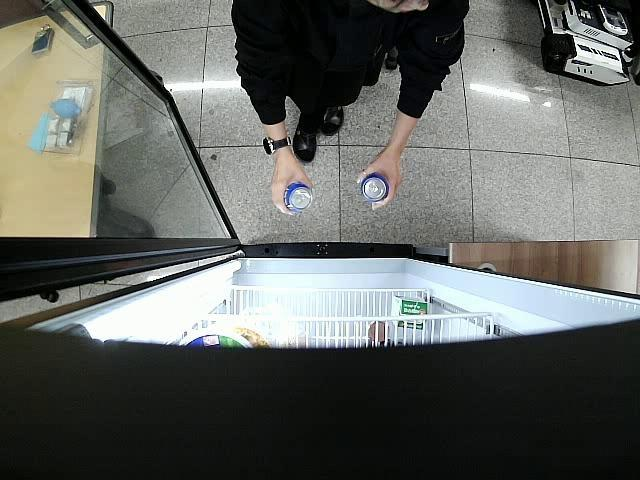13_pocariSweat: (284, 182, 312, 215), (361, 173, 390, 201)
